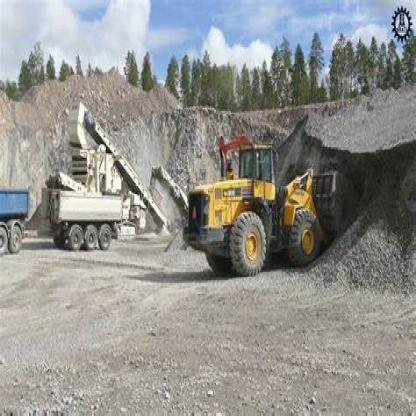bull_dozer/loader/grader: (182, 124, 374, 278)
